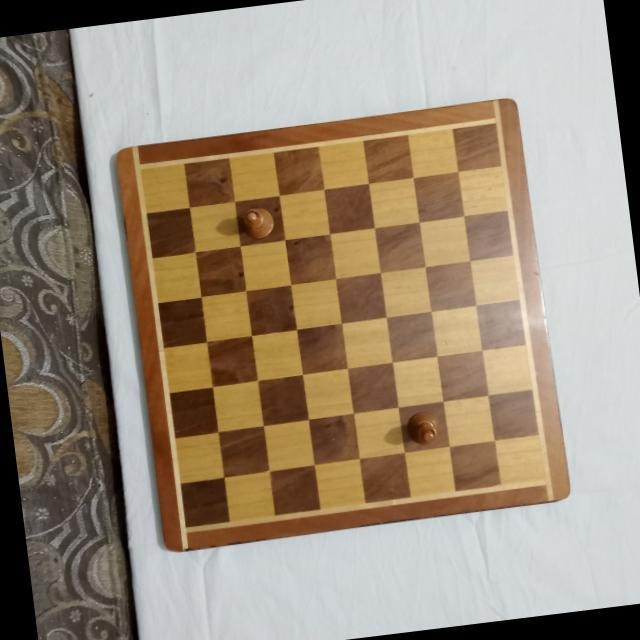white-bishop: (237, 205, 277, 243), (405, 407, 441, 447)
